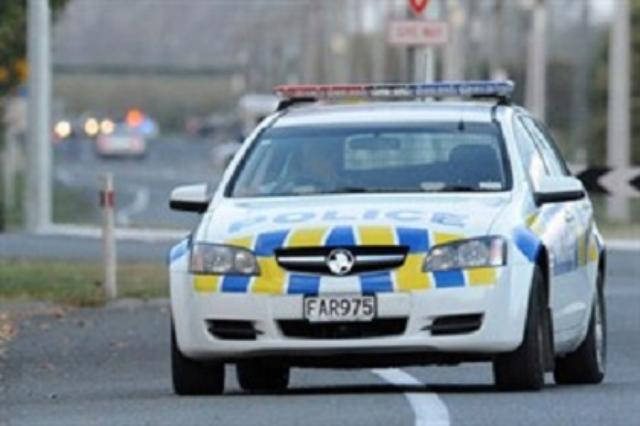Rego: (304, 296, 376, 324)
